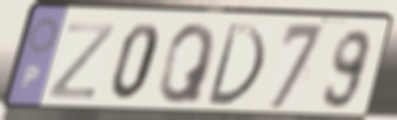0: (107, 20, 161, 104)
7: (269, 21, 329, 114)
9: (321, 26, 374, 110)
D: (203, 21, 267, 110)
Q: (155, 21, 219, 107)
Z: (44, 20, 118, 102)
